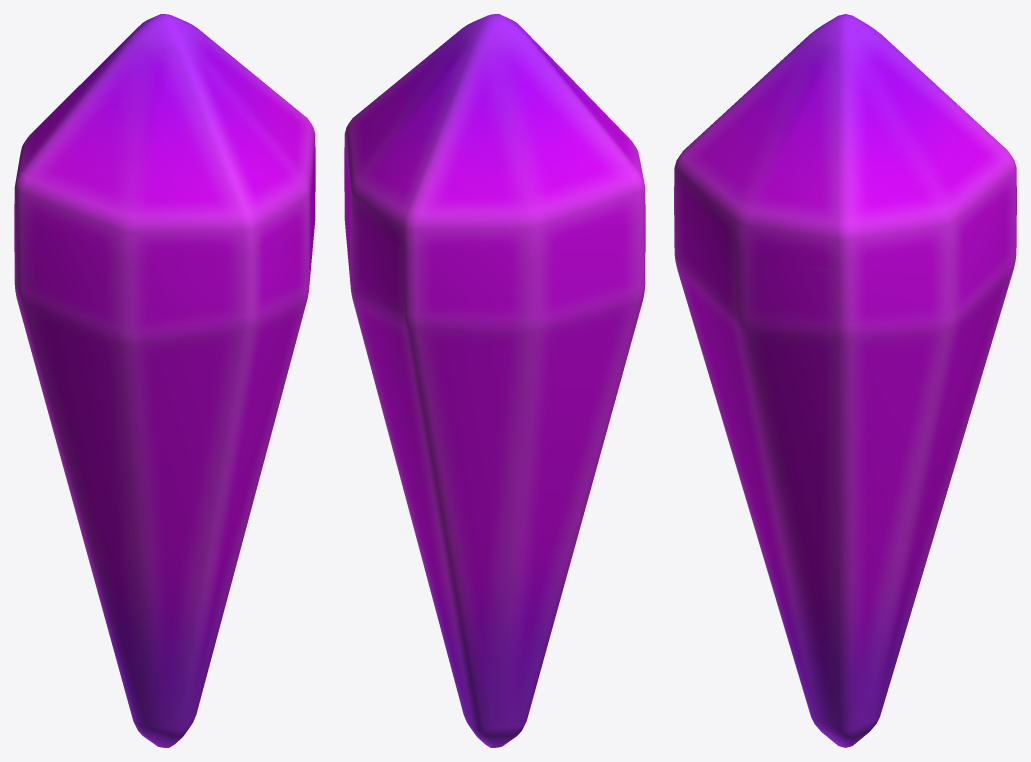
The model's file is Crystal Projectile.fbx.
3 renders of one model, left to right at view 1: azimuth 30°, elevation 25°; view 2: azimuth 150°, elevation 25°; view 3: azimuth 270°, elevation 25°, orthographic.
Parts seen in each view (by area): view 1: Projectile; view 2: Projectile; view 3: Projectile.
Part boxes in pixels (x1=…): Projectile: x1=14, y1=14, x2=315, y2=747; Projectile: x1=344, y1=14, x2=645, y2=747; Projectile: x1=674, y1=14, x2=1016, y2=747.
Bounding box in the file's own units: 82.35 × 194 × 82.35.
Materials: 1 (1 with a texture image).
